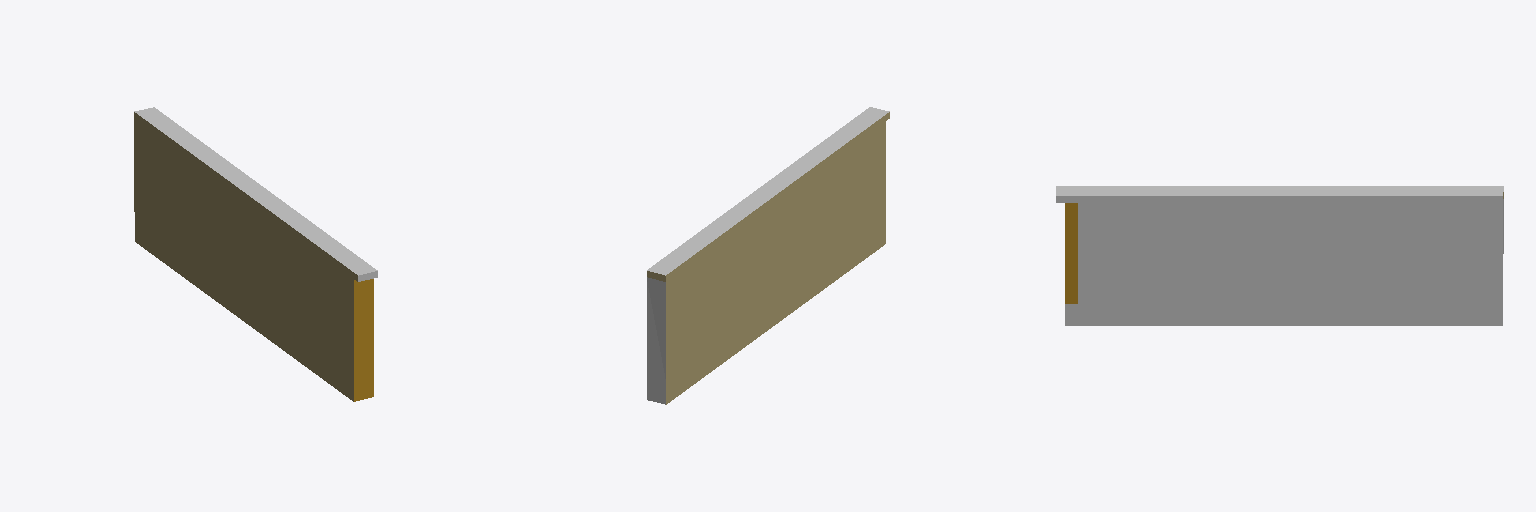
File: terraza_izquierda_1.obj
3 renders of one model, left to right at view 1: azimuth 30°, elevation 25°; view 2: azimuth 150°, elevation 25°; view 3: azimuth 270°, elevation 25°, orthographic.
Parts seen in each view (by area): view 1: TECHO_4_Cube.033; view 2: TECHO_4_Cube.033; view 3: TECHO_4_Cube.033.
Part boxes in pixels (bbox=[...]): TECHO_4_Cube.033: bbox=[134, 107, 377, 401]; TECHO_4_Cube.033: bbox=[647, 107, 889, 404]; TECHO_4_Cube.033: bbox=[1056, 186, 1503, 325].
Bounding box in the file's own units: 0.4804 × 3 × 9.4.